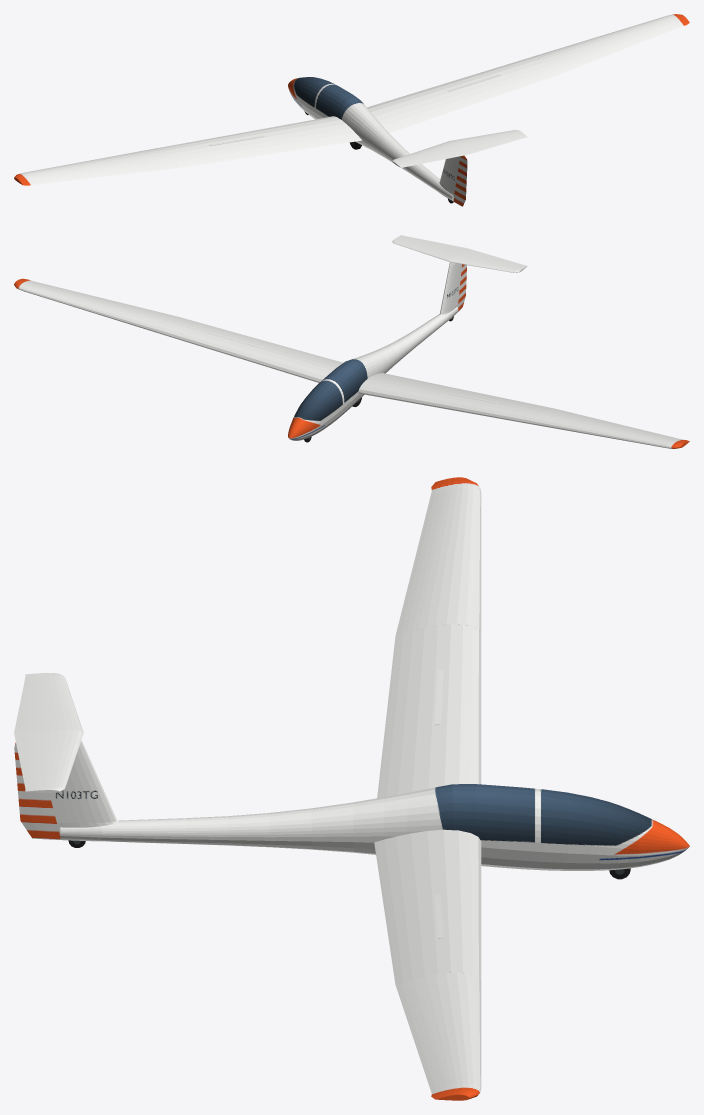
The model's file is twin-ii-acro.glb.
3 views of the same model, one above another, from view 1: azimuth 30°, elevation 25°; view 2: azimuth 150°, elevation 25°; view 3: azimuth 270°, elevation 25° (orthographic). The views are drawn at different scales.
Parts seen in each view (by area): view 1: twin-ii-acro, aileron_r, aileron_l, elevator, rudder; view 2: twin-ii-acro, elevator; view 3: twin-ii-acro, aileron_l, aileron_r, rudder, elevator.
Part boxes in pixels (x1=…): twin-ii-acro: x1=14, y1=14, x2=689, y2=203; aileron_r: x1=551, y1=21, x2=682, y2=75; aileron_l: x1=28, y1=162, x2=178, y2=184; elevator: x1=399, y1=135, x2=527, y2=167; rudder: x1=453, y1=155, x2=467, y2=206; twin-ii-acro: x1=14, y1=236, x2=689, y2=448; elevator: x1=399, y1=235, x2=527, y2=267; twin-ii-acro: x1=34, y1=477, x2=689, y2=1100; aileron_l: x1=395, y1=487, x2=445, y2=636; aileron_r: x1=395, y1=979, x2=445, y2=1093; rudder: x1=14, y1=742, x2=61, y2=839; elevator: x1=14, y1=673, x2=33, y2=792.
Size of the model in its own units: 17.47 by 1.96 by 8.08.
1 material, 1 textured.
